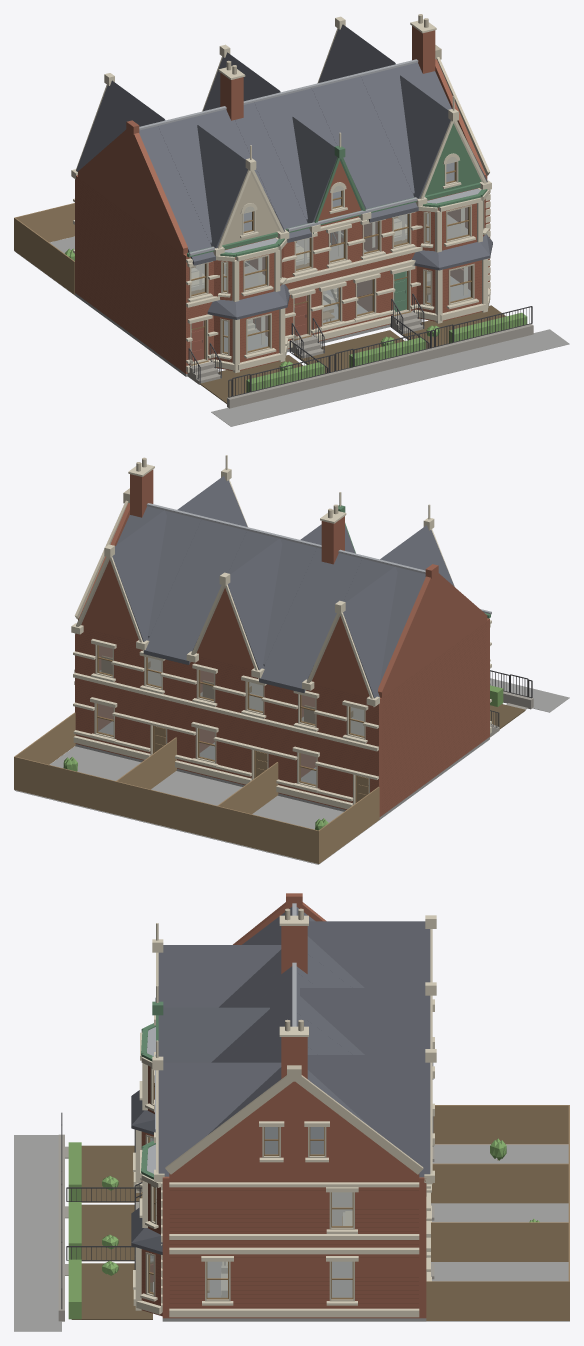
The model's file is clay-queen-anne-rowhouse-trio-clay-v009.glb.
The picture shows the model from 3 angles, top to bottom: view 1: azimuth 30°, elevation 25°; view 2: azimuth 150°, elevation 25°; view 3: azimuth 270°, elevation 25°; orthographic projection. The views are drawn at different scales.
Parts seen in each view (by area): view 1: CLAY_ROOF, CLAY_WALL, CLAY_PALE, CLAY_FOUNDATION, CLAY_SAND, CLAY_GLASS, CLAY_STONE, CLAY_HARDWARE, CLAY_SOIL, CLAY_TIMBER, CLAY_GREEN, CLAY_PLANTING (+6 smaller); view 2: CLAY_WALL, CLAY_ROOF, CLAY_TIMBER, CLAY_PALE, CLAY_FOUNDATION, CLAY_GLASS, CLAY_SAND, CLAY_JOINT, CLAY_TRIM, CLAY_LEAD, CLAY_FLOOR, CLAY_PLANTING (+2 smaller); view 3: CLAY_ROOF, CLAY_WALL, CLAY_TIMBER, CLAY_FOUNDATION, CLAY_PALE, CLAY_SOIL, CLAY_SAND, CLAY_JOINT, CLAY_PLANTING, CLAY_GLASS, CLAY_STONE, CLAY_HARDWARE (+4 smaller).
Boxes of the visible parts, box(x1,y1,x2,y2) form: CLAY_ROOF: box(76, 24, 492, 319); CLAY_WALL: box(75, 26, 489, 373); CLAY_PALE: box(71, 16, 491, 373); CLAY_FOUNDATION: box(15, 236, 569, 426); CLAY_SAND: box(189, 14, 489, 364); CLAY_GLASS: box(191, 157, 470, 352); CLAY_STONE: box(187, 310, 533, 408); CLAY_HARDWARE: box(188, 230, 532, 397); CLAY_SOIL: box(200, 305, 505, 403); CLAY_TIMBER: box(14, 203, 433, 337); CLAY_GREEN: box(187, 123, 487, 257); CLAY_PLANTING: box(65, 248, 527, 392); CLAY_WALL: box(75, 469, 489, 816); CLAY_ROOF: box(76, 476, 454, 698); CLAY_TIMBER: box(14, 655, 379, 863); CLAY_PALE: box(71, 455, 491, 809); CLAY_FOUNDATION: box(14, 678, 569, 864); CLAY_GLASS: box(98, 645, 364, 784); CLAY_SAND: box(74, 457, 369, 804); CLAY_JOINT: box(75, 622, 486, 809); CLAY_TRIM: box(96, 645, 364, 802); CLAY_LEAD: box(146, 503, 491, 614); CLAY_FLOOR: box(99, 658, 364, 735); CLAY_PLANTING: box(63, 685, 503, 830); CLAY_ROOF: box(131, 907, 433, 1254); CLAY_WALL: box(141, 893, 426, 1318); CLAY_TIMBER: box(207, 1105, 569, 1320); CLAY_FOUNDATION: box(14, 1135, 569, 1331); CLAY_PALE: box(133, 915, 436, 1317); CLAY_SOIL: box(71, 1145, 152, 1319); CLAY_SAND: box(145, 908, 426, 1301); CLAY_JOINT: box(142, 1068, 418, 1315); CLAY_PLANTING: box(68, 1138, 539, 1319); CLAY_GLASS: box(150, 1127, 352, 1297); CLAY_STONE: box(58, 1134, 434, 1321); CLAY_HARDWARE: box(61, 1112, 225, 1309).
Bounding box in the file's own units: 19.4 × 13.55 × 23.2.
